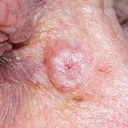Carcinoma: (50, 44, 89, 87)
